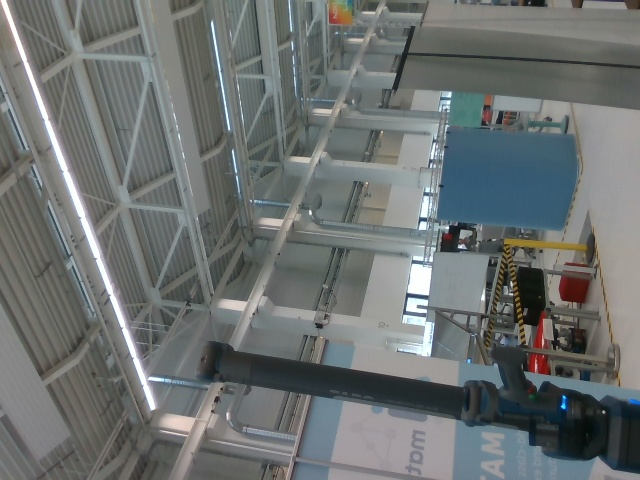Robot arm: (195, 340, 640, 473)
